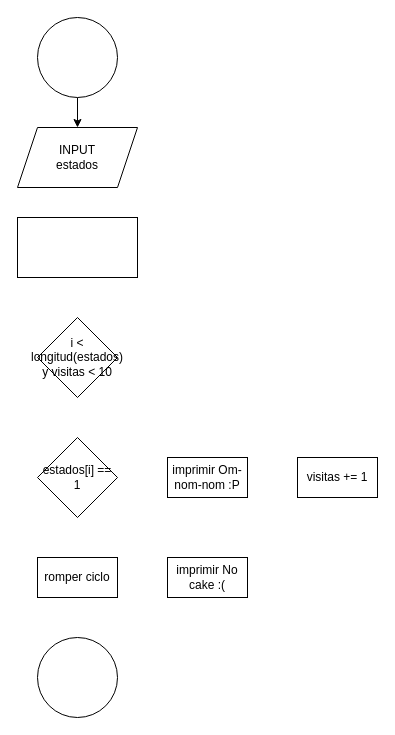
Image size: 395x735. Some labels were removed from this diagram. Each missing label, with the centre of its shape:
"FIN" goes at point 77,677.
"INICIO" goes at point 77,57.
"visitas = 0" goes at point 77,247.
